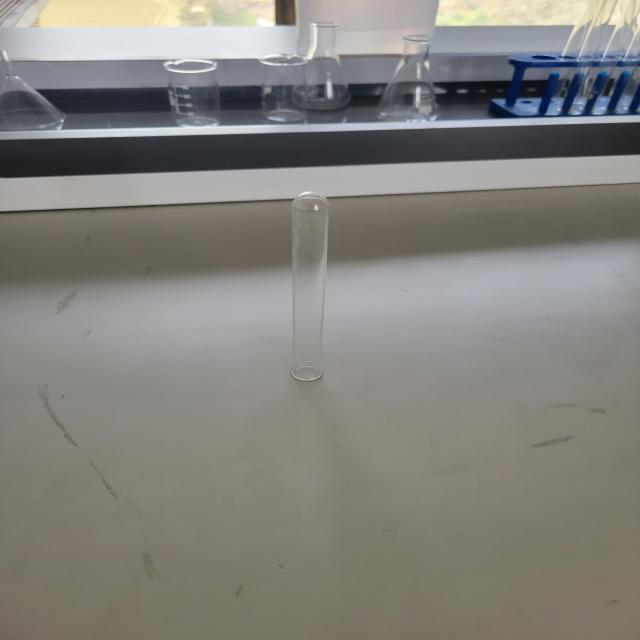Test_Tube: (267, 151, 384, 427)
